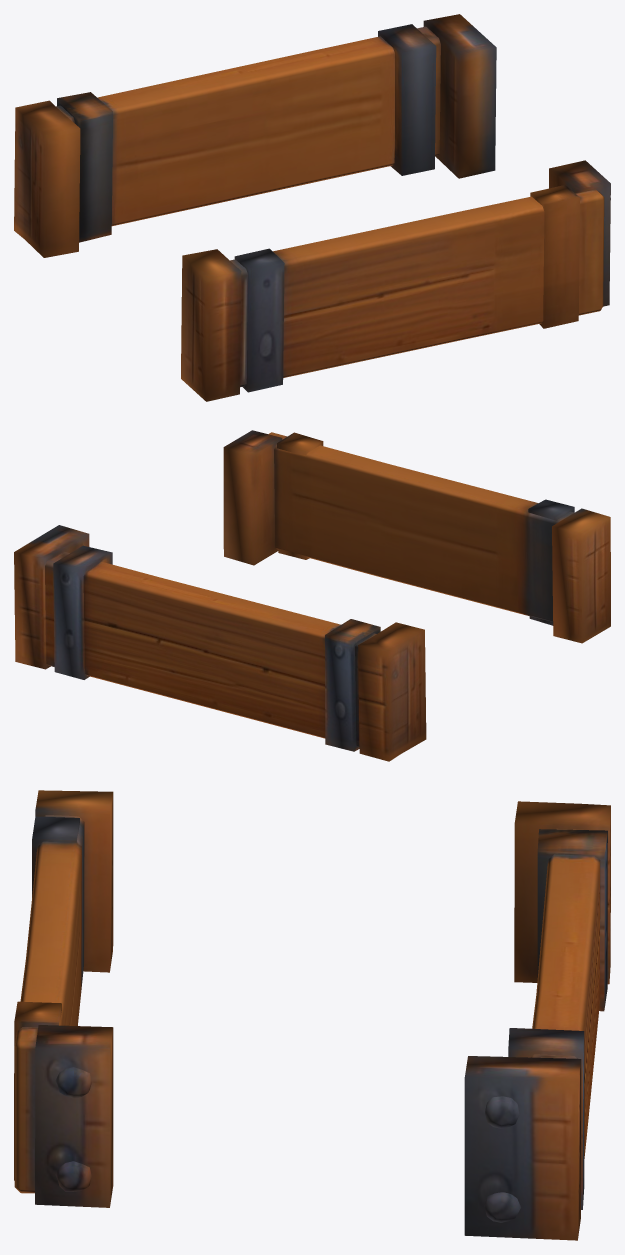
Rendered from hatch_coaming.glb.
3 views of the same model, one above another, from view 1: azimuth 30°, elevation 25°; view 2: azimuth 150°, elevation 25°; view 3: azimuth 270°, elevation 25° (orthographic). The views are drawn at different scales.
Parts seen in each view (by area): view 1: side_b, side_a; view 2: side_b, side_a; view 3: side_b, side_a.
Boxes of the visible parts, x1=… form: side_b: x1=14, y1=14, x2=496, y2=257; side_a: x1=181, y1=160, x2=610, y2=401; side_b: x1=14, y1=525, x2=426, y2=761; side_a: x1=223, y1=430, x2=610, y2=643; side_b: x1=464, y1=801, x2=610, y2=1240; side_a: x1=14, y1=790, x2=113, y2=1207.
Size of the model in its own units: 1.23 by 0.3232 by 1.06.
1 material, 1 textured.
